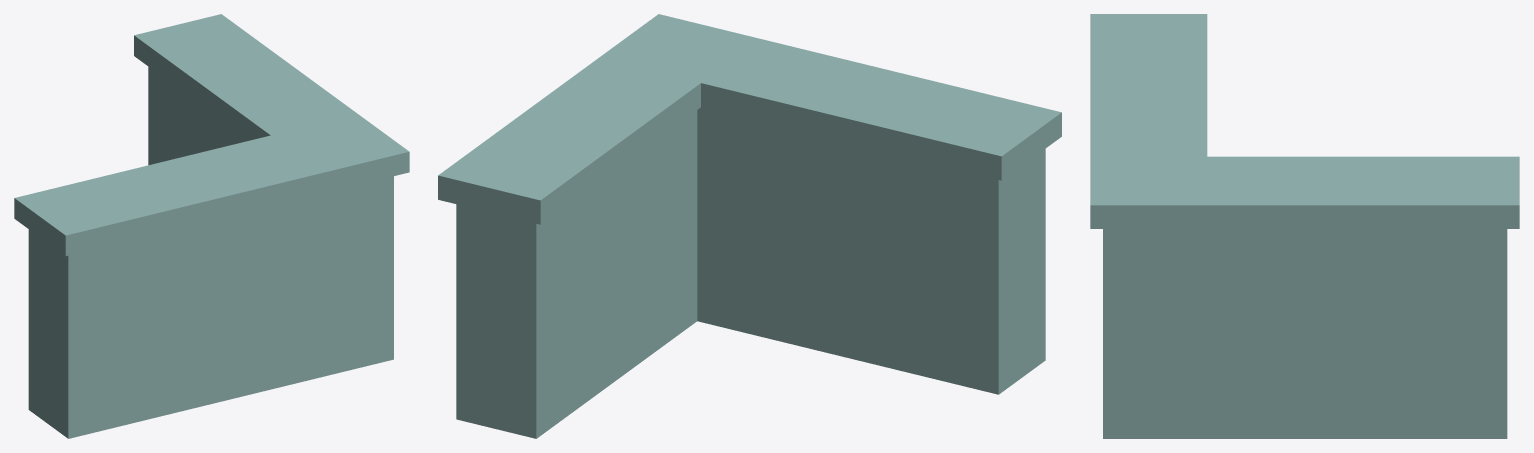
The picture shows the model from 3 angles, left to right: view 1: azimuth 30°, elevation 25°; view 2: azimuth 150°, elevation 25°; view 3: azimuth 270°, elevation 25°; orthographic projection. The views are drawn at different scales.
Visible parts, largest first — view 1: Box001; view 2: Box001; view 3: Box001.
Boxes of the visible parts, x1=… form: Box001: x1=14, y1=14, x2=409, y2=438; Box001: x1=438, y1=14, x2=1061, y2=438; Box001: x1=1090, y1=14, x2=1519, y2=438.
Size of the model in its own units: 268 by 156 by 254.
